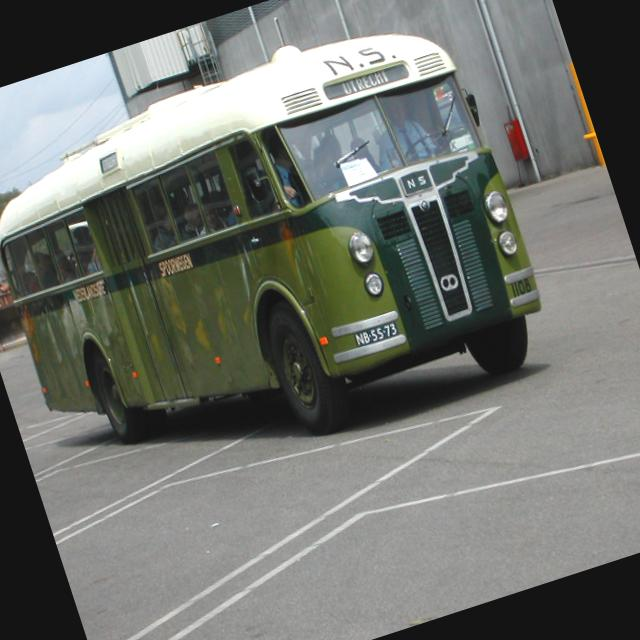Vehicle: (0, 0, 565, 518)
